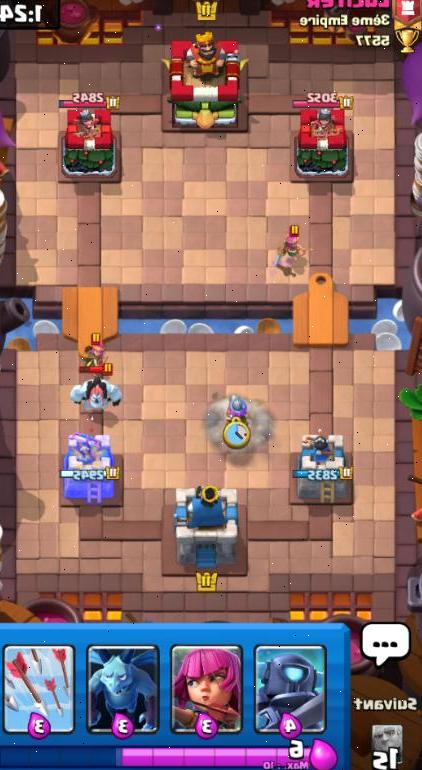enemy_archers: (276, 223, 310, 262), (79, 331, 115, 366)
enemy_ice_golem: (64, 361, 127, 417)
player_musketeer: (223, 389, 254, 429)
